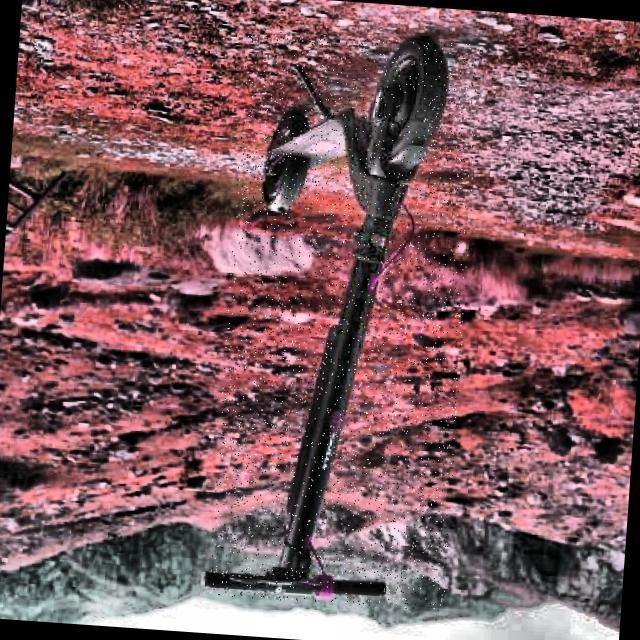bike: (253, 35, 450, 580)
